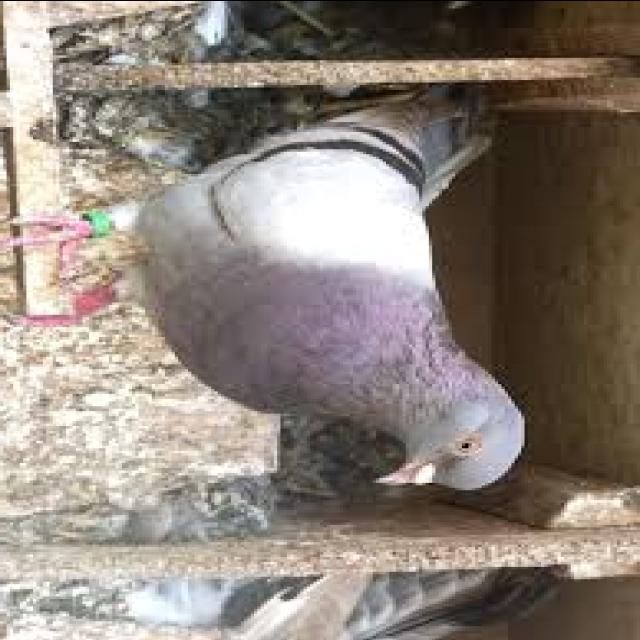pigeon: (91, 98, 565, 515)
